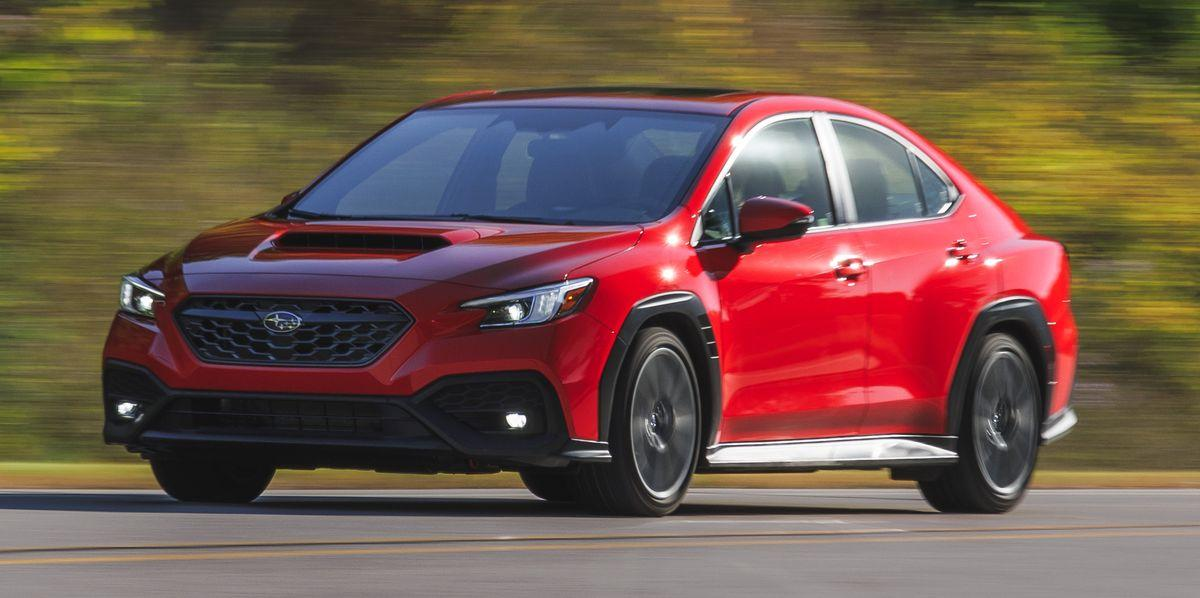subaru: (258, 299, 310, 341)
